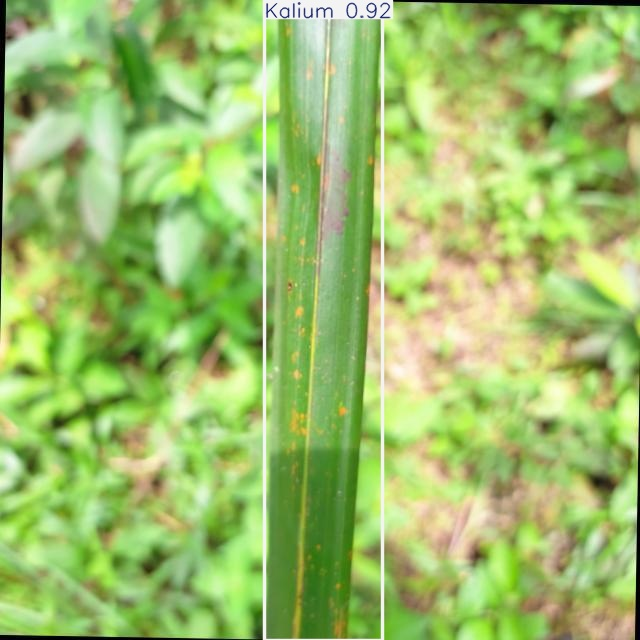Kalium: (265, 0, 383, 640)
